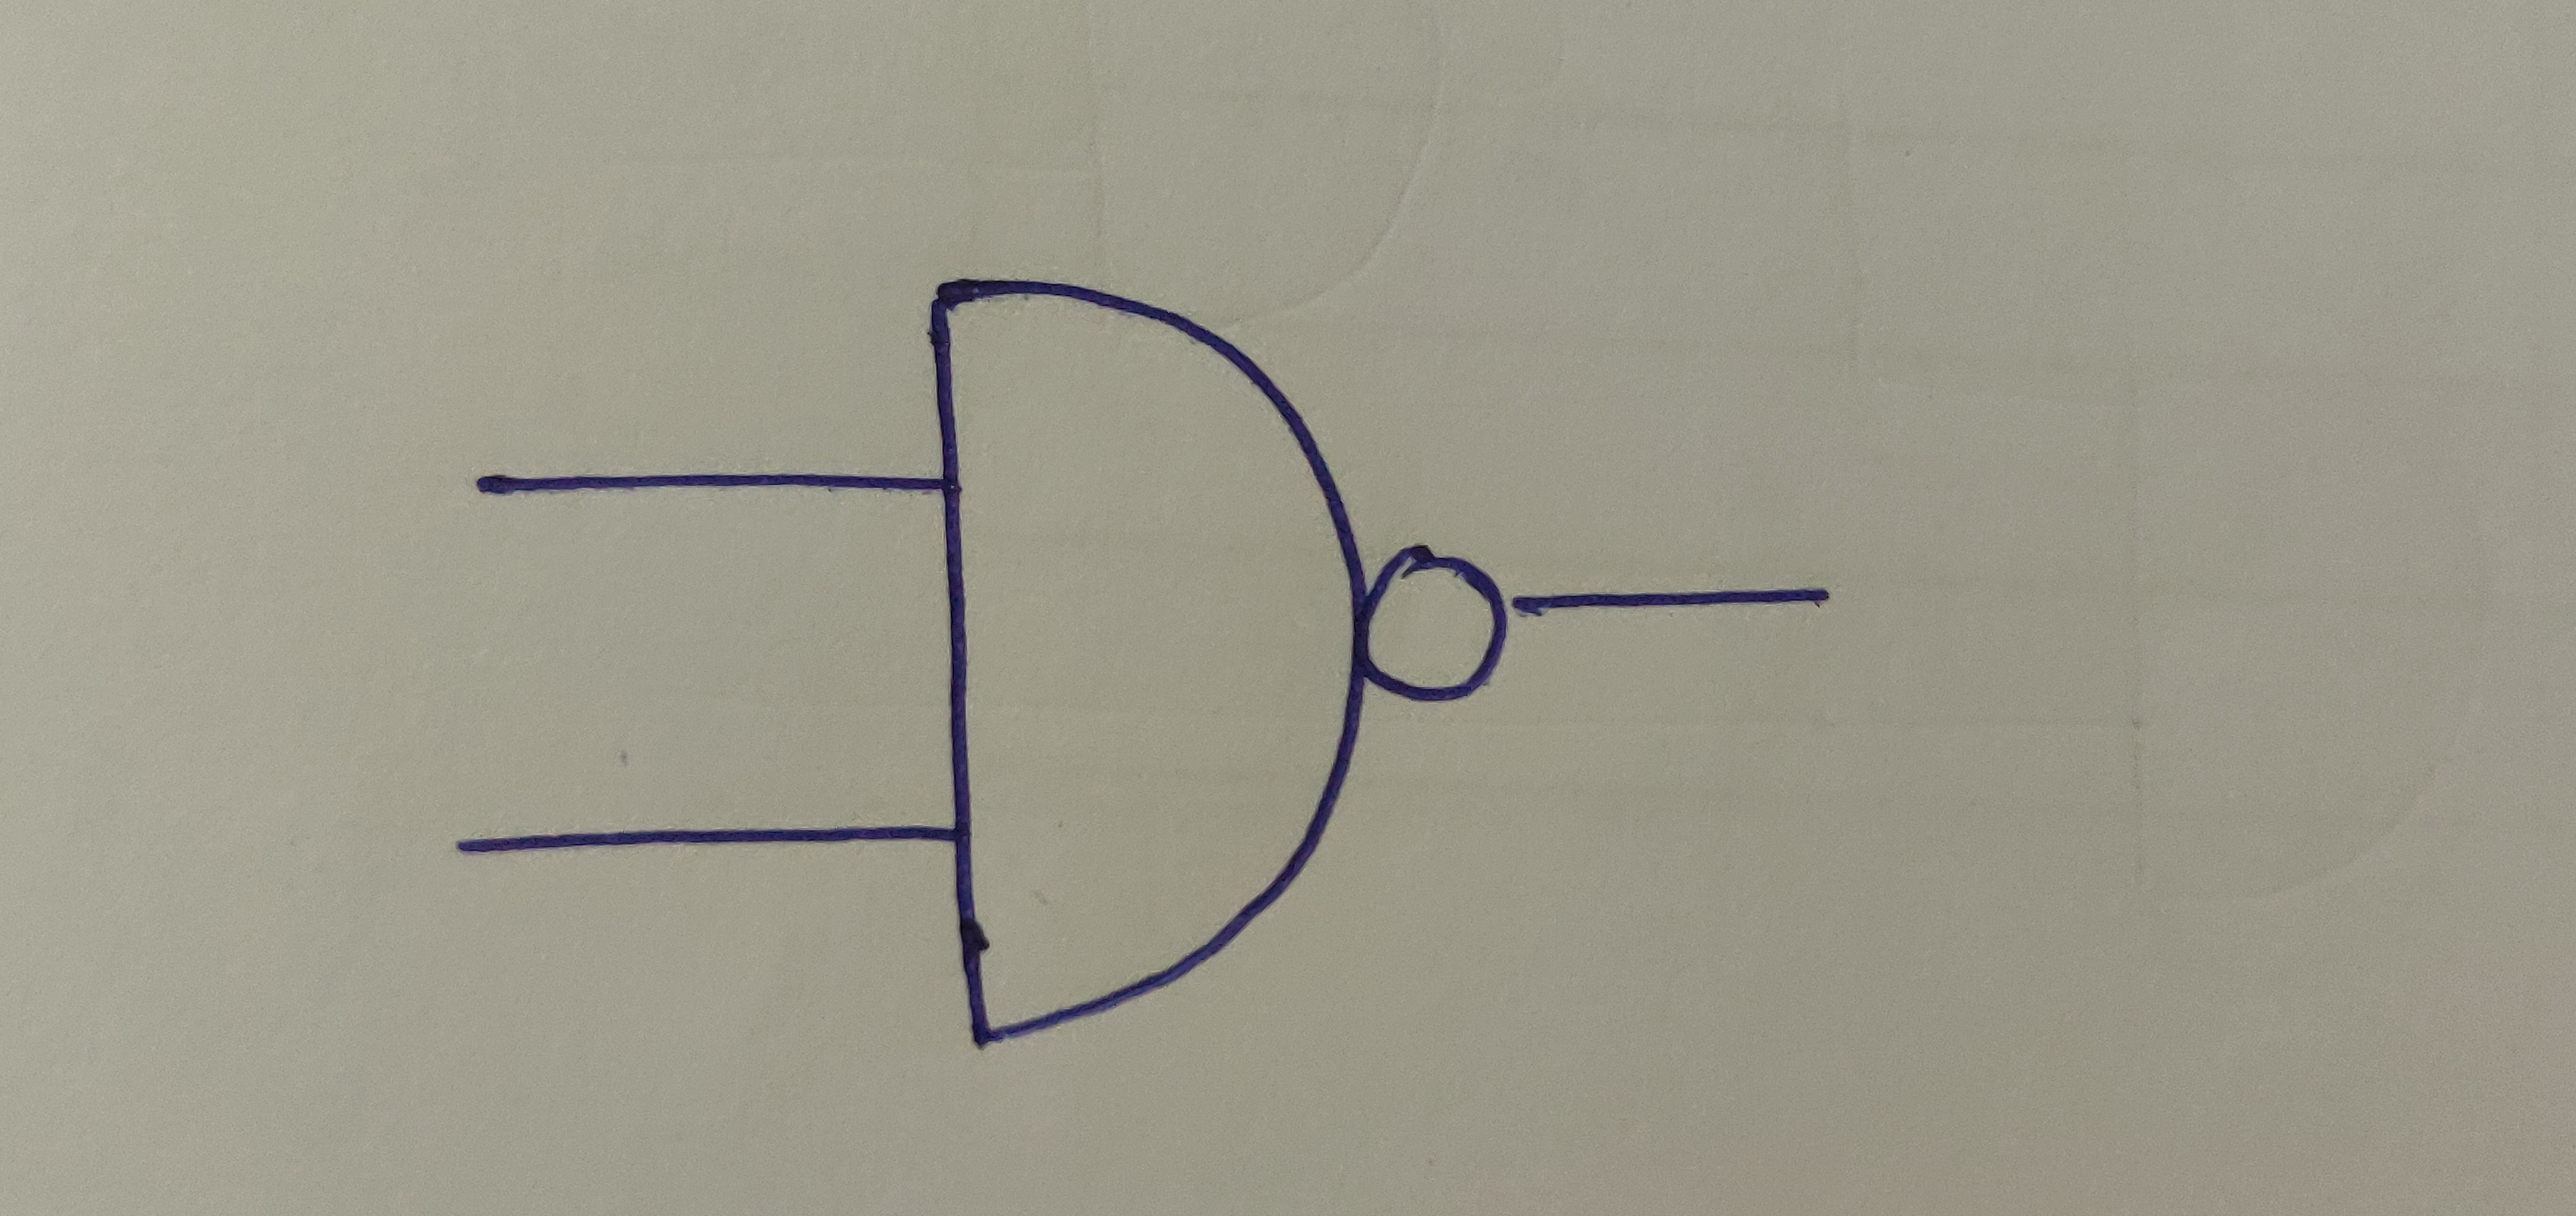and: (922, 271, 1373, 1043)
not: (1354, 547, 1513, 708)
